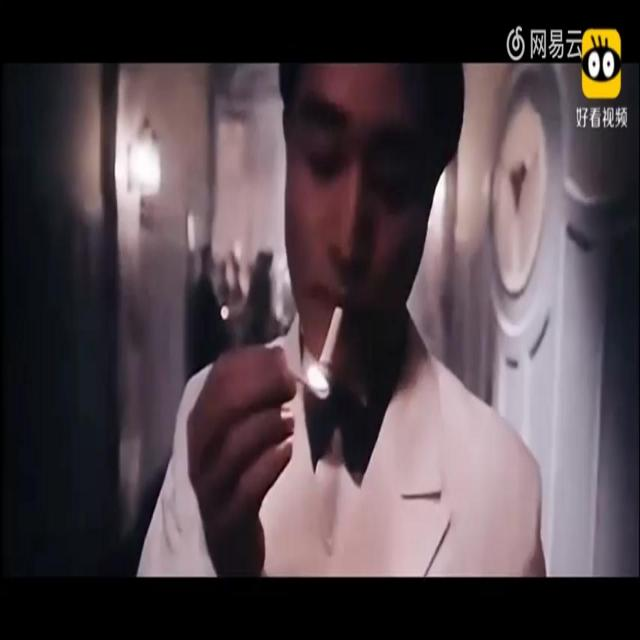Сигарета: (320, 307, 343, 373)
Тело: (140, 49, 544, 576)
